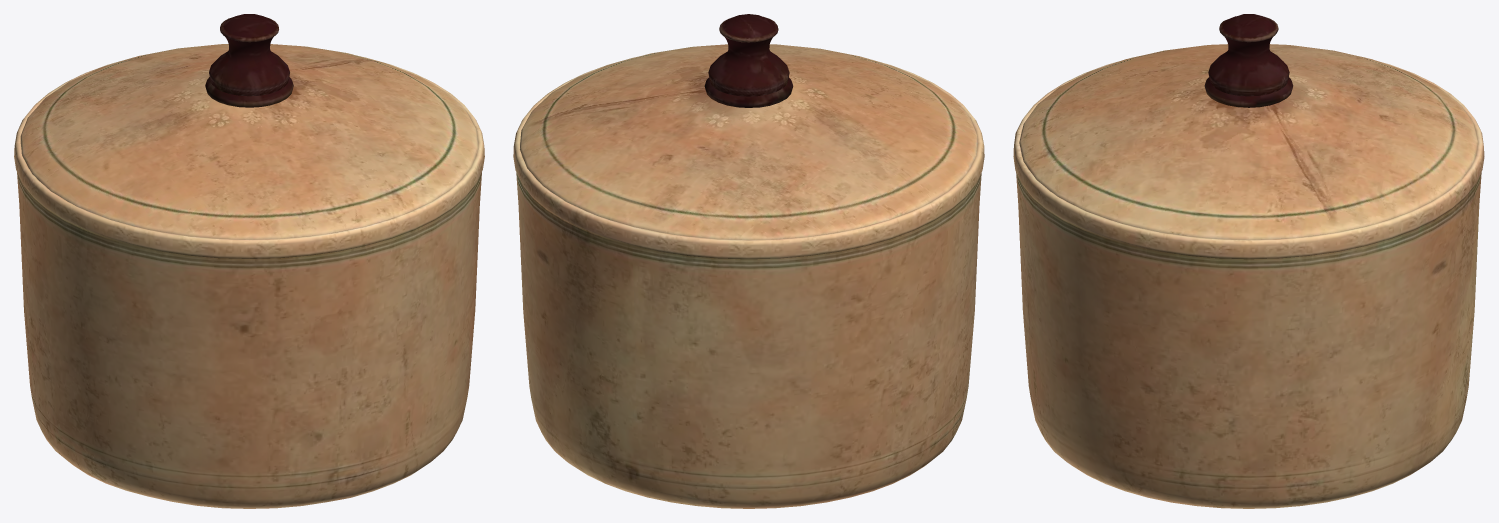
File: assets__ph__brass_pot_01.glb
The picture shows the model from 3 angles, left to right: view 1: azimuth 30°, elevation 25°; view 2: azimuth 150°, elevation 25°; view 3: azimuth 270°, elevation 25°; orthographic projection.
Parts seen in each view (by area): view 1: brass_pot_01; view 2: brass_pot_01; view 3: brass_pot_01.
Part boxes in pixels (left/top/right/bottom): brass_pot_01: left=14, top=14, right=484, bottom=508; brass_pot_01: left=513, top=14, right=984, bottom=508; brass_pot_01: left=1013, top=14, right=1484, bottom=508.
Bounding box in the file's own units: 0.3019 × 0.2909 × 0.3017.
1 material, 1 textured.
